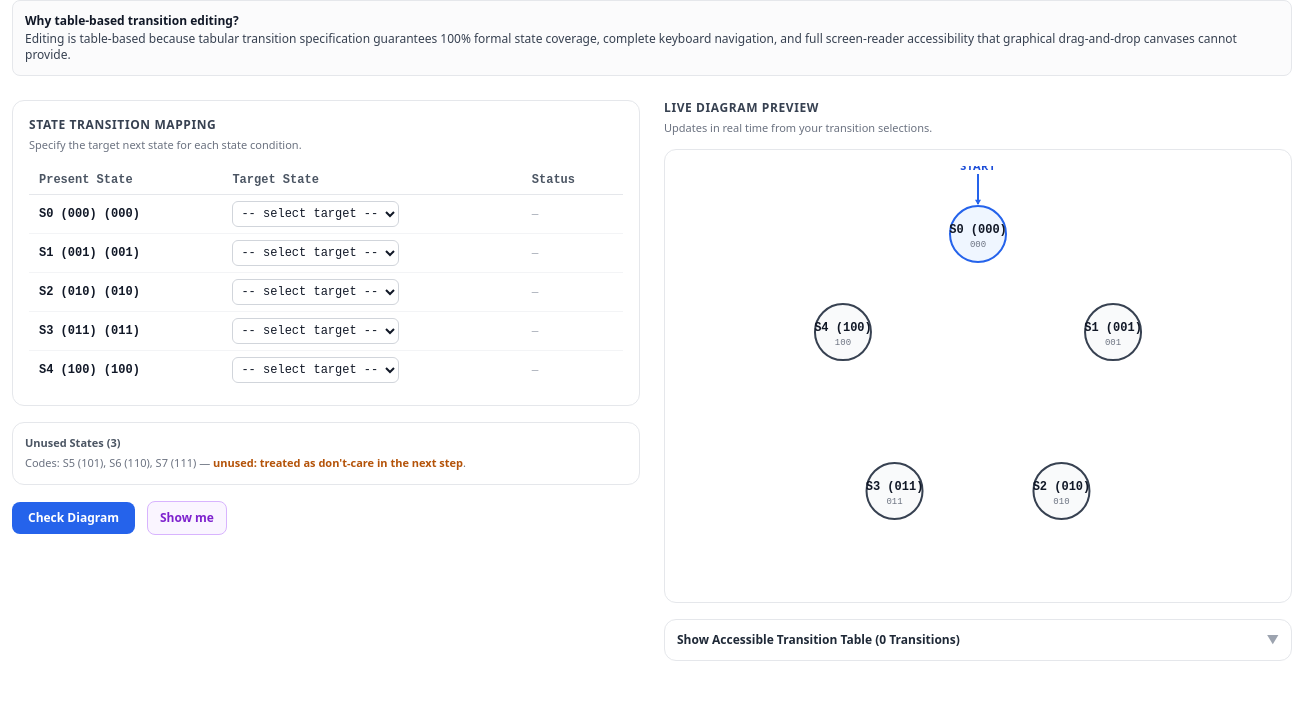
Test: StateDiagramEditor component › shows plain-language diagnostic when a transition arrow is missing
# Click check without selecting targets
What coordinates should you click on to do the following:
click the button "Check Diagram"
I would click on:
 (74, 518)
Its box is x1=12 y1=502 x2=135 y2=534.
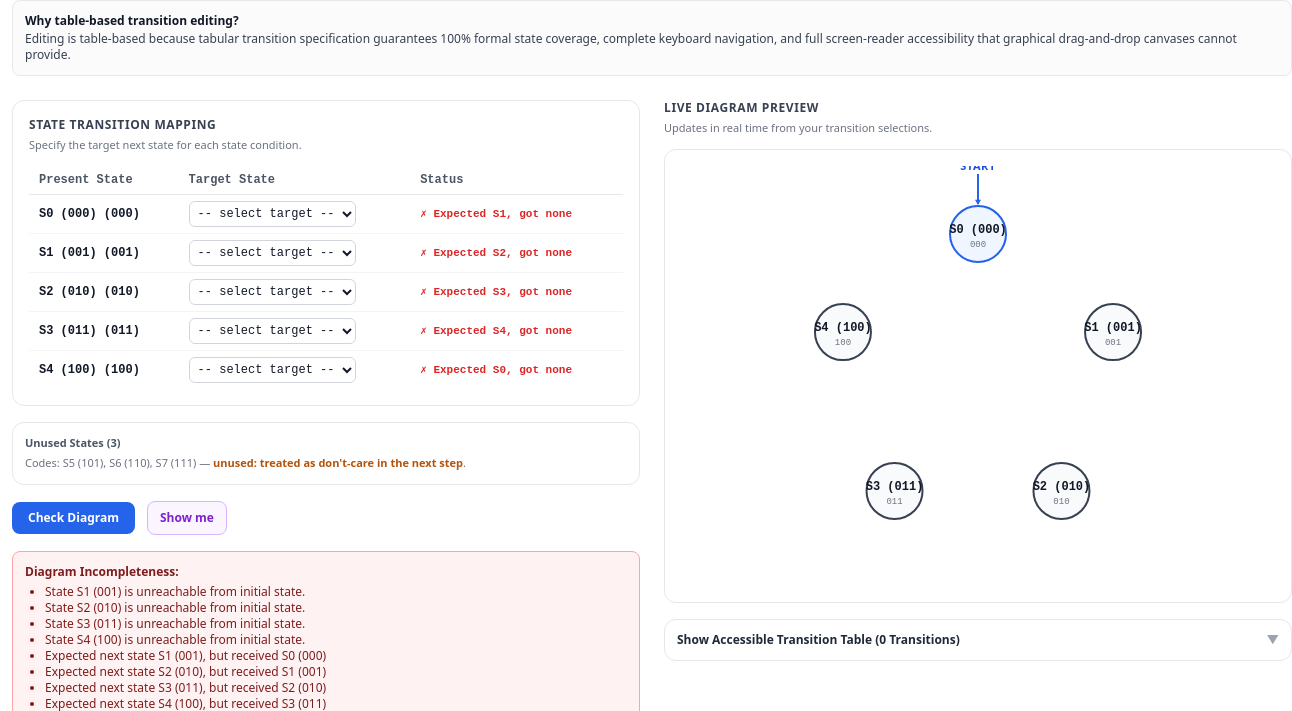
Expected: the text "✗ Expected S1, got none" is shown, x1=420 y1=208 x2=572 y2=220
